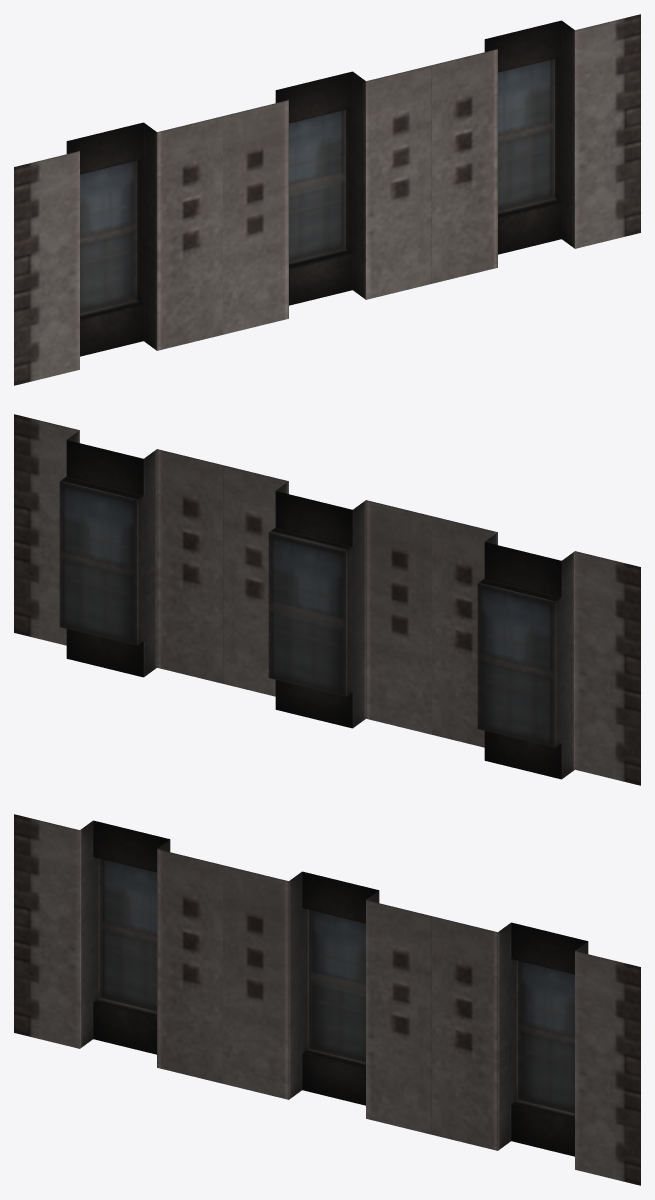
Rendered from B5_MiddleFlorFront.FBX.
3 renders of one model, top to bottom at view 1: azimuth 30°, elevation 25°; view 2: azimuth 150°, elevation 25°; view 3: azimuth 330°, elevation 25°, orthographic.
Parts seen in each view (by area): view 1: B5_MiddleFlorFront; view 2: B5_MiddleFlorFront; view 3: B5_MiddleFlorFront.
Boxes of the visible parts, x1,y1,x2,y2 form: B5_MiddleFlorFront: (14, 14, 640, 385); B5_MiddleFlorFront: (14, 414, 640, 785); B5_MiddleFlorFront: (14, 814, 640, 1185).
Size of the model in its own units: 12 by 4 by 0.666.
